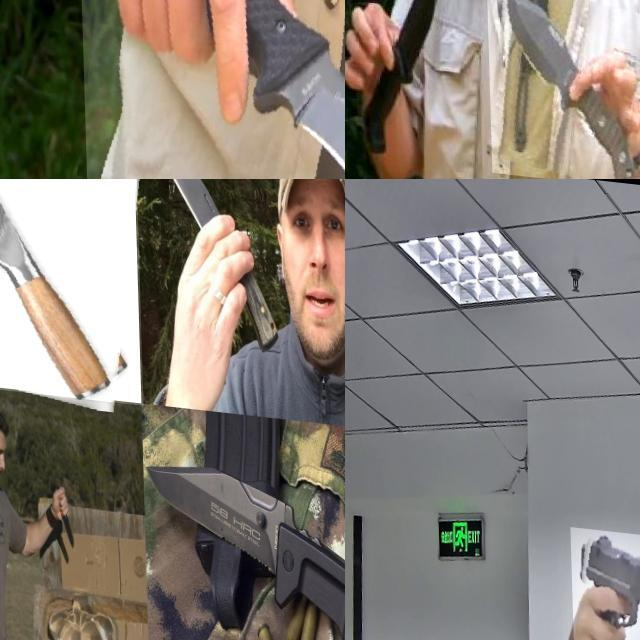-: (77, 0, 345, 179), (137, 449, 345, 640), (0, 179, 164, 398), (486, 0, 640, 179), (151, 179, 278, 348), (357, 0, 444, 160), (50, 481, 76, 546)
gun-knife-thesis - v11 Yolov5 augmented: (567, 521, 640, 640)
